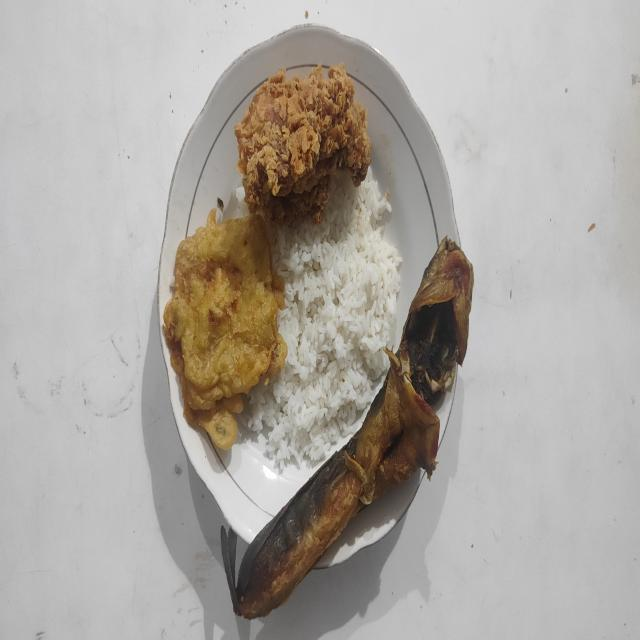nasi_putih: (239, 169, 402, 473)
